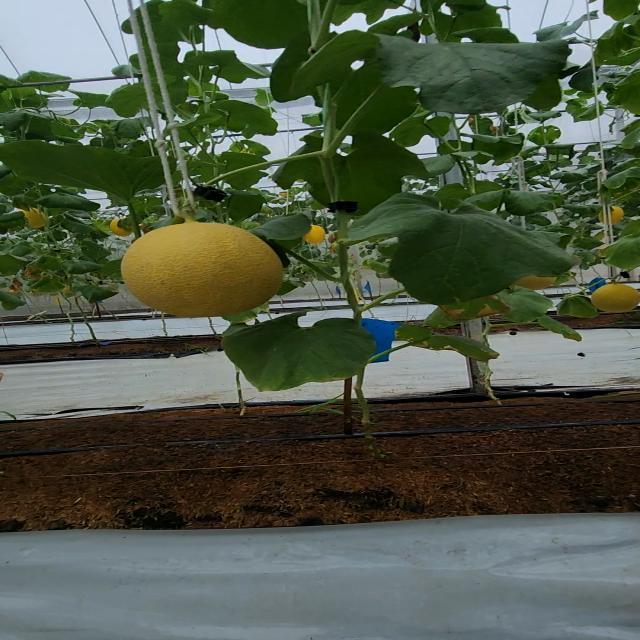Front-melon: (121, 224, 284, 315)
Rear-melon: (592, 284, 640, 312)
